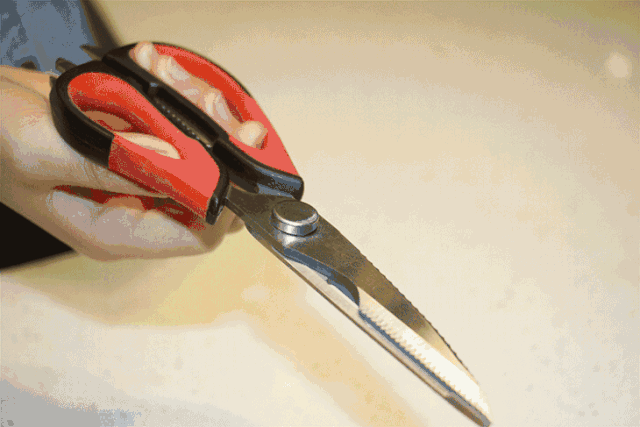scissor: (54, 39, 502, 427)
